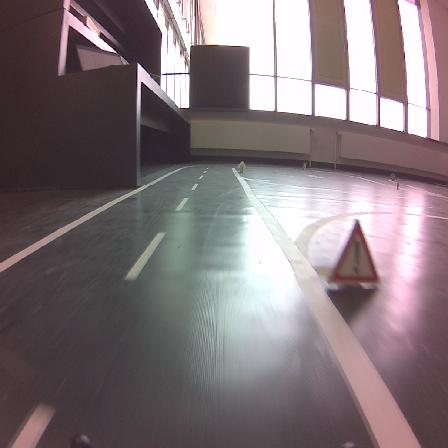ATTENTION: (328, 216, 379, 284)
